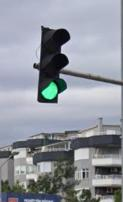greenlight: (37, 25, 66, 104)
